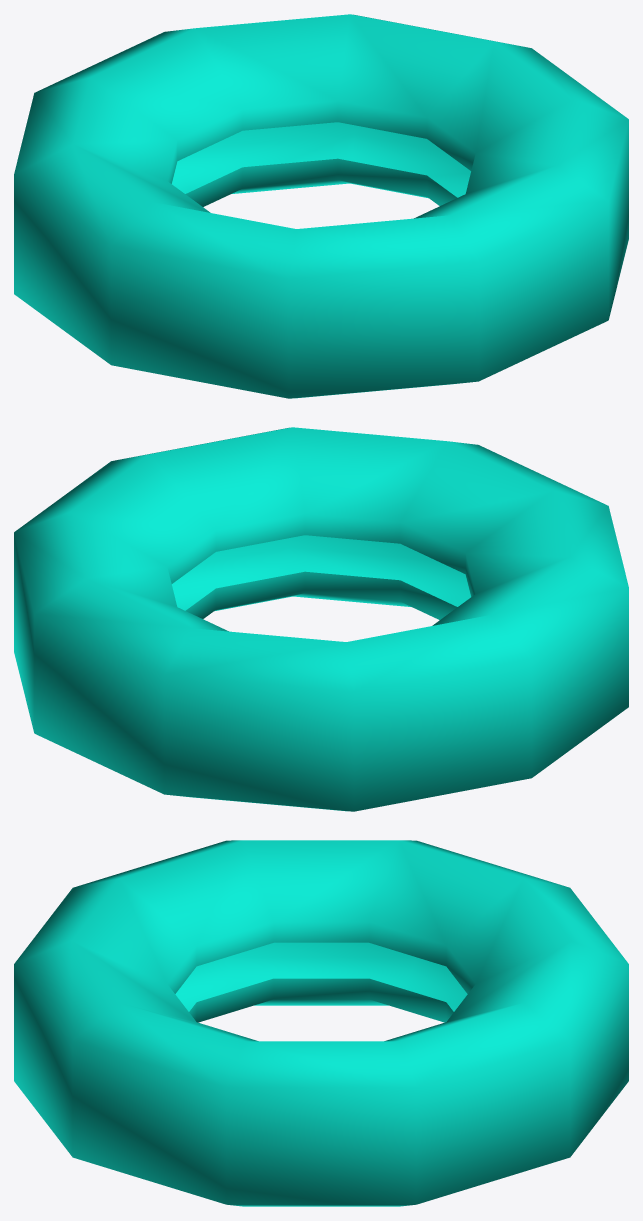
The model's file is tire.glb.
3 views of the same model, one above another, from view 1: azimuth 30°, elevation 25°; view 2: azimuth 150°, elevation 25°; view 3: azimuth 270°, elevation 25° (orthographic). The views are drawn at different scales.
Visible parts, largest first — view 1: tire; view 2: tire; view 3: tire.
Boxes of the visible parts, bbox=[...] form: tire: bbox=[14, 14, 628, 398]; tire: bbox=[14, 427, 628, 811]; tire: bbox=[14, 840, 628, 1206].
Bounding box in the file's own units: 9.28 × 2.9 × 9.75.
